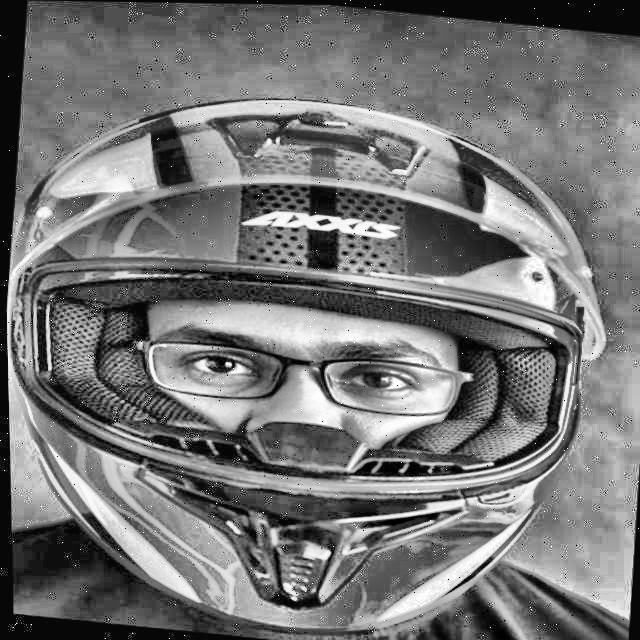Helmet: (1, 58, 640, 640)
